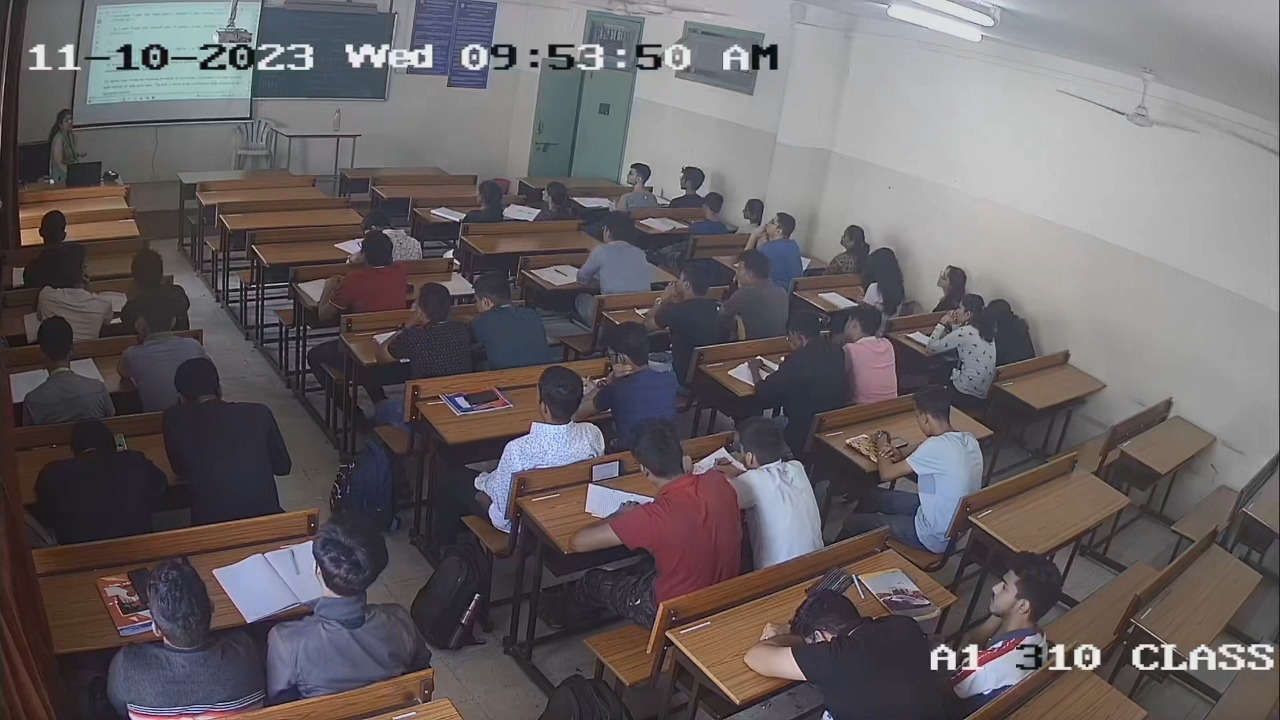cell-phones: (589, 457, 625, 483), (460, 387, 505, 407), (889, 434, 910, 448)
person: (585, 429, 741, 588), (490, 362, 605, 467), (874, 387, 985, 495)
